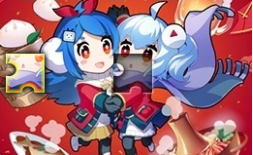gap: (113, 54, 152, 93)
